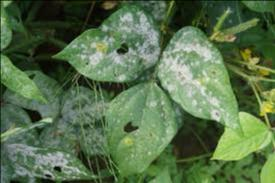embun tepung: (164, 30, 228, 122), (121, 12, 155, 42), (81, 51, 102, 69)
